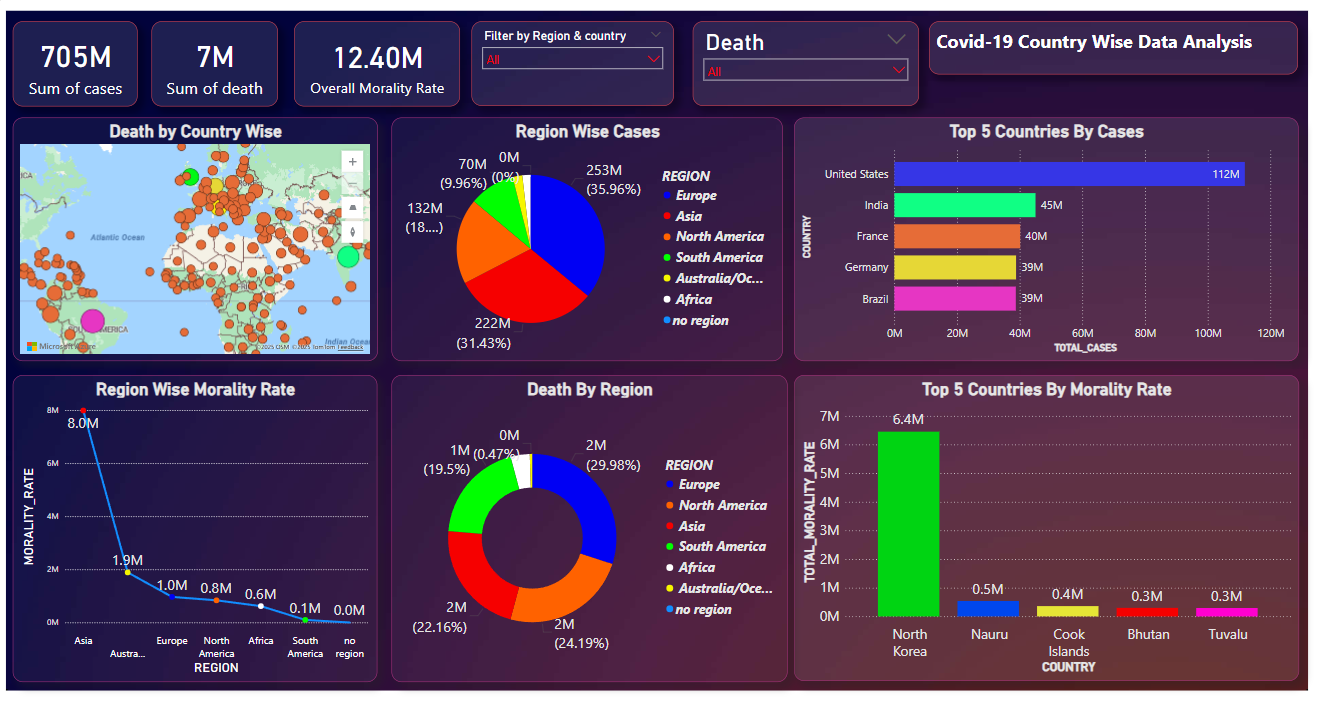

The dashboard page shown, as its layout file describes it:
{"tool":"powerbi","page":{"name":"covid-19 dashboard","canvas":[2000,1100],"ordinal":0},"visuals":[{"type":"card","fields":{"Values":["Sum(Covid-19 countrywise cleand dataset.cases)"]},"box":[49.8,60.8,184.3,125.3],"z":0},{"type":"card","fields":{"Values":["Sum(Covid-19 countrywise cleand dataset.death)"]},"box":[254.4,60.8,186.2,125.3],"z":1000},{"type":"card","fields":{"Values":["Sum(Covid-19 countrywise cleand dataset.moralityrate)"]},"box":[464.5,60.8,245.1,125.3],"z":2000},{"type":"clusteredBarChart","title":"Top 5 Countries By Cases","fields":{"Category":["Covid-19 countrywise cleand dataset.country"],"Y":["Sum(Covid-19 countrywise cleand dataset.cases)"]},"box":[1202,203,744,359],"z":3000},{"type":"clusteredColumnChart","title":" Top 5 Countries By Morality Rate","fields":{"Category":["Covid-19 countrywise cleand dataset.country"],"Y":["Sum(Covid-19 countrywise cleand dataset.moralityrate)"]},"box":[1201.7,582.4,744.6,451.6],"z":4000},{"type":"pieChart","title":"Region Wise Cases","fields":{"Category":["Covid-19 countrywise cleand dataset.region"],"Y":["Sum(Covid-19 countrywise cleand dataset.cases)"]},"box":[608.3,203.3,577.1,359.1],"z":5000},{"type":"donutChart","title":"Death By Region","fields":{"Category":["Covid-19 countrywise cleand dataset.region"],"Y":["Sum(Covid-19 countrywise cleand dataset.death)"]},"box":[608.3,582.1,583.7,452.5],"z":6000},{"type":"lineChart","title":"Region Wise Morality Rate","fields":{"Category":["Covid-19 countrywise cleand dataset.region"],"Y":["Sum(Covid-19 countrywise cleand dataset.Overall Morality Rate)"]},"box":[49.2,582.1,537.8,452.5],"z":7000},{"type":"slicer","fields":{"Values":["Covid-19 countrywise cleand dataset.region","Covid-19 countrywise cleand dataset.country"]},"box":[726.4,61.5,298,124.8],"z":8000},{"type":"actionButton","box":[0,0,100,40],"z":9000},{"type":"slicer","fields":{"Values":["Covid-19 countrywise cleand dataset.death"]},"box":[1052.3,61.5,333.4,124.8],"z":10000},{"type":"textbox","box":[1400.6,61.5,543.9,78.2],"z":11000},{"type":"azureMap","title":"Death by Country Wise","fields":{"Category":["Covid-19 countrywise cleand dataset.country"],"Size":["Sum(Covid-19 countrywise cleand dataset.death)"]},"box":[49.8,202.7,538.2,359.4],"z":12000}]}

Visuals, with their boxes on the page's 2000x1100 design canvas (x1, y1, x2, y2). These are canvas units, not pixel positions in the 1317x702 screenshot, which may show the page scaled, cropped or inside an application window:
card - Sum(Covid-19 countrywise cleand dataset.cases): Rect(50, 61, 234, 186)
card - Sum(Covid-19 countrywise cleand dataset.death): Rect(254, 61, 441, 186)
card - Sum(Covid-19 countrywise cleand dataset.moralityrate): Rect(464, 61, 710, 186)
"Top 5 Countries By Cases" clusteredBarChart: Rect(1202, 203, 1946, 562)
" Top 5 Countries By Morality Rate" clusteredColumnChart: Rect(1202, 582, 1946, 1034)
"Region Wise Cases" pieChart: Rect(608, 203, 1185, 562)
"Death By Region" donutChart: Rect(608, 582, 1192, 1035)
"Region Wise Morality Rate" lineChart: Rect(49, 582, 587, 1035)
slicer - Covid-19 countrywise cleand dataset.region x Covid-19 countrywise cleand dataset.country: Rect(726, 62, 1024, 186)
actionButton: Rect(0, 0, 100, 40)
slicer - Covid-19 countrywise cleand dataset.death: Rect(1052, 62, 1386, 186)
textbox: Rect(1401, 62, 1944, 140)
"Death by Country Wise" azureMap: Rect(50, 203, 588, 562)
